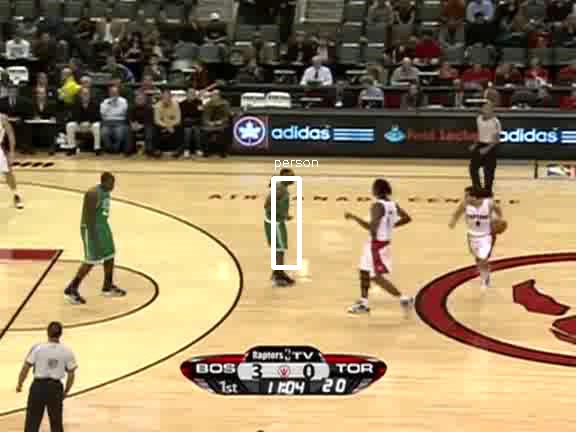person: (261, 180, 295, 261), (260, 180, 294, 261), (262, 180, 296, 261), (261, 179, 295, 260), (261, 181, 295, 262)
target_negative: (166, 168, 488, 317), (49, 139, 100, 365), (331, 362, 494, 411), (224, 264, 287, 368), (112, 113, 227, 163), (346, 352, 356, 354)
